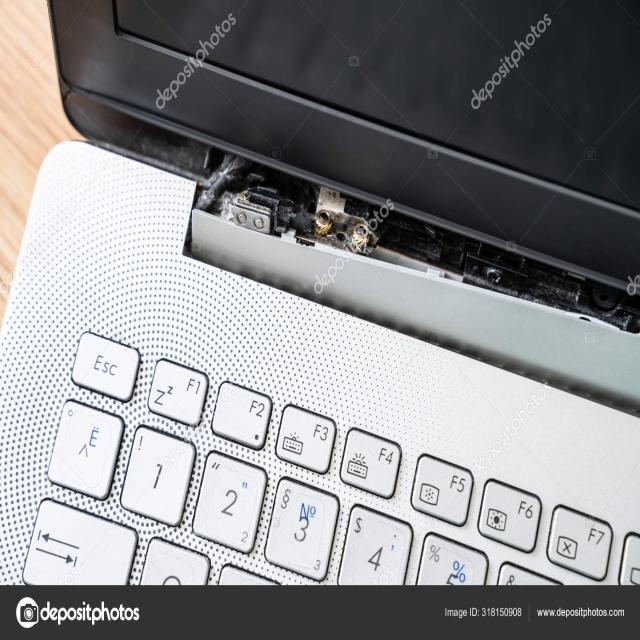electronics: (0, 0, 640, 585), (20, 607, 32, 621), (620, 6, 623, 10)
